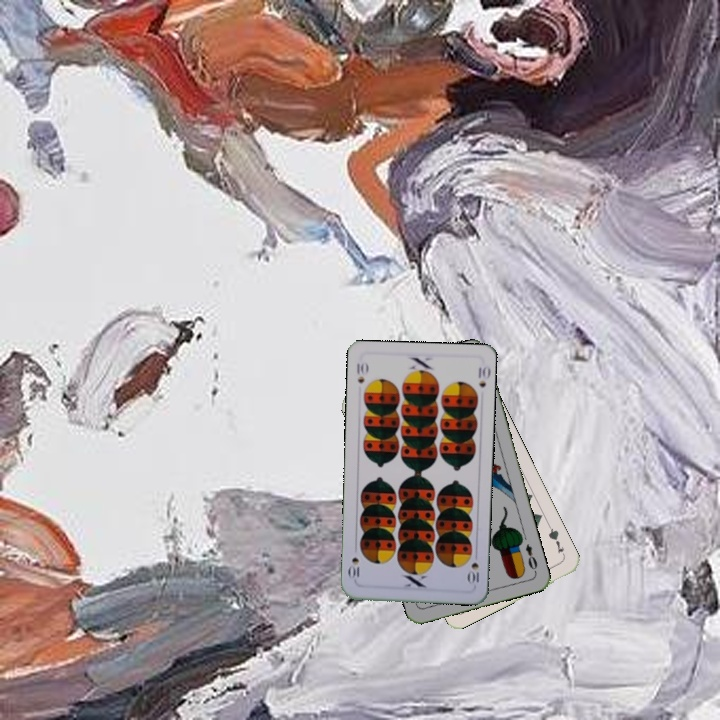EO: (521, 540, 540, 575)
G7: (544, 522, 568, 560)
S10: (464, 548, 482, 588), (353, 359, 370, 386)
